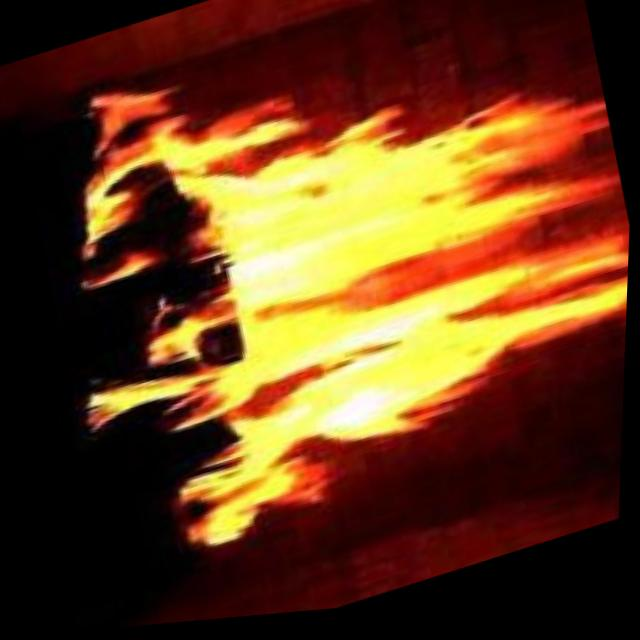Fire: (120, 55, 624, 545)
